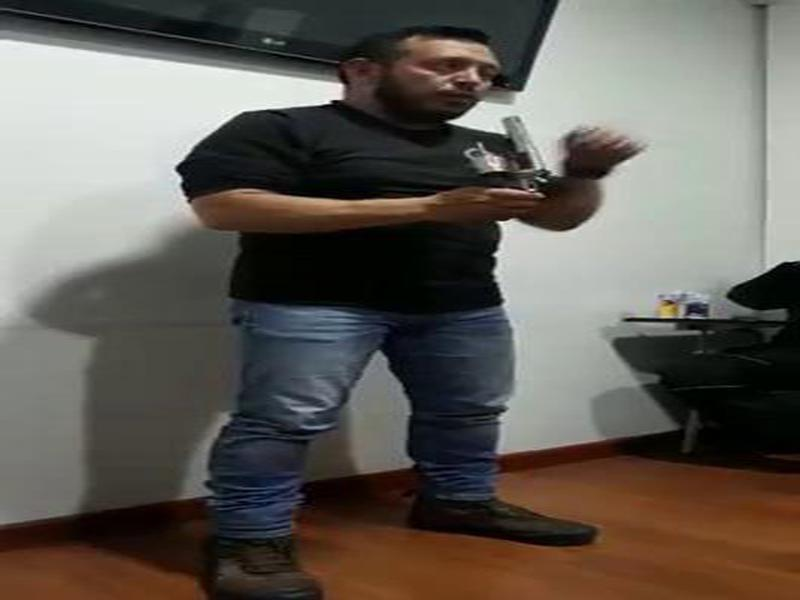Revolver: (464, 95, 557, 216)
